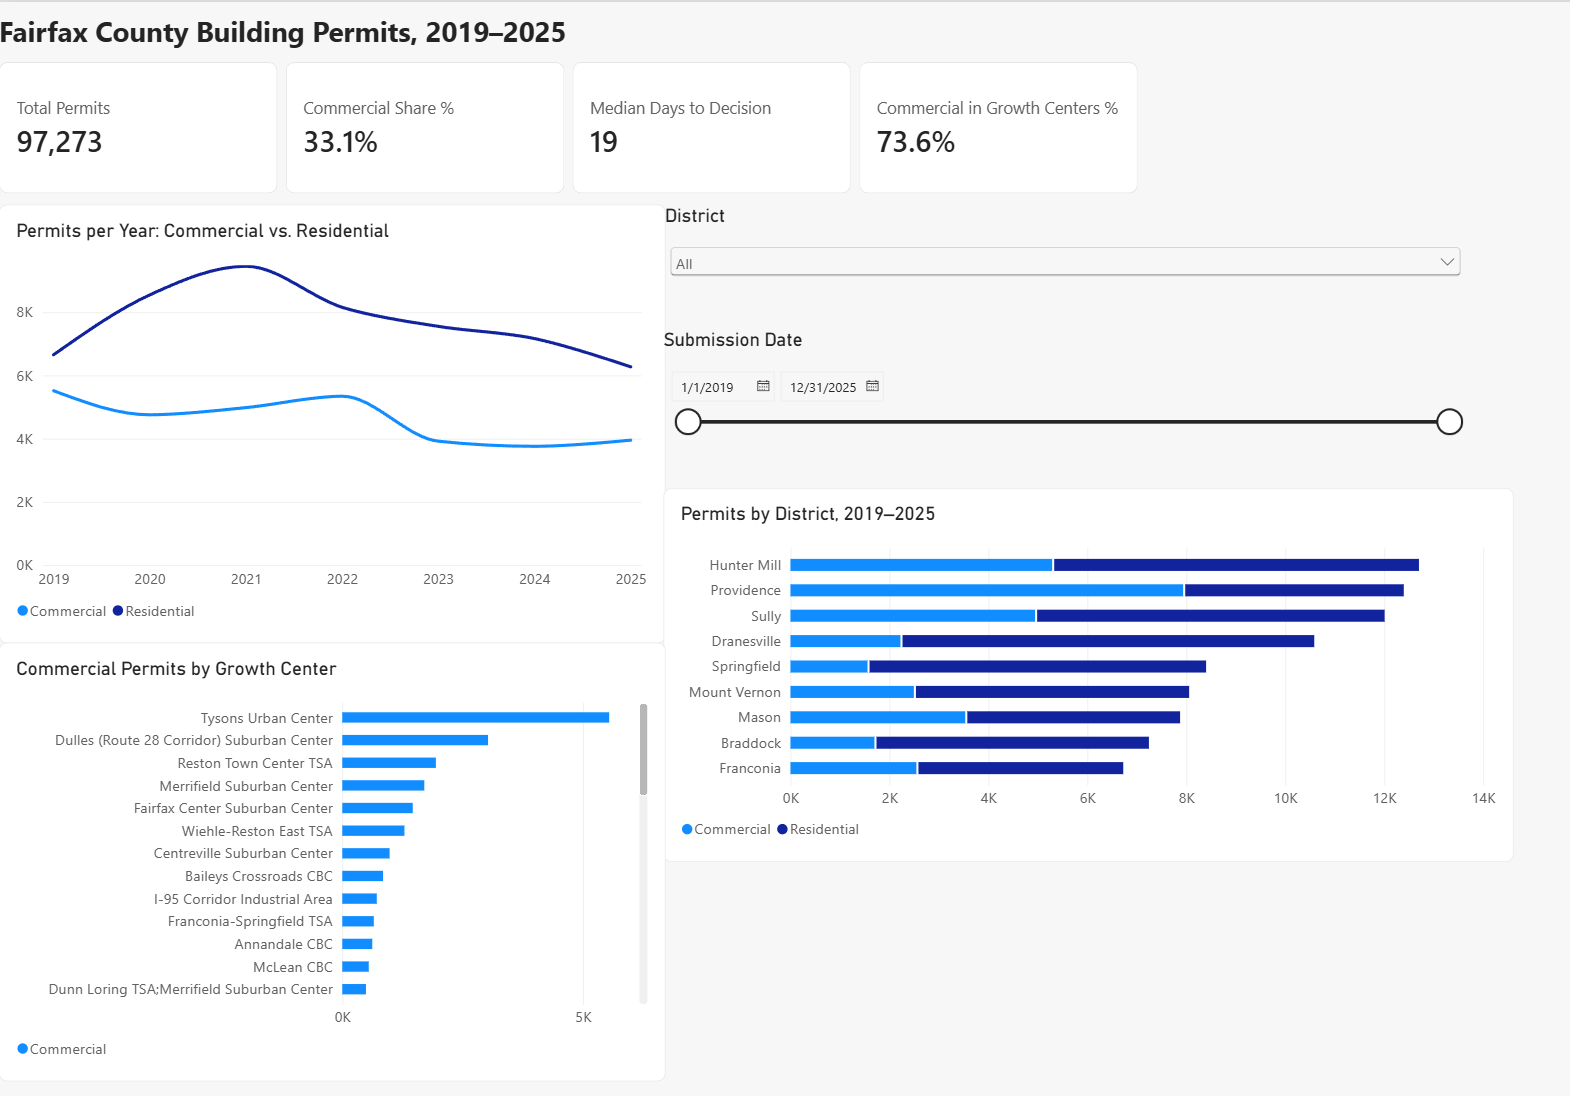

What the dashboard file says about the page in this screenshot:
{"tool":"powerbi","page":{"name":"Page 1","canvas":[1920,1080],"ordinal":0},"visuals":[{"type":"cardVisual","fields":{"Data":["permits.Total Permits","permits.Commercial Share %","permits.Median Days to Decision","permits.Commercial in Growth Centers %"]},"box":[0,58,1101.2,127.5],"z":0},{"type":"lineChart","title":"Permits per Year: Commercial vs. Residential","fields":{"Category":["permits.submitted_date.Variation.Date Hierarchy.Year"],"Series":["record_types.sector"],"Y":["permits.Total Permits"]},"box":[0,195.7,643.8,423.8],"z":1000},{"type":"barChart","title":"Permits by District, 2019–2025","fields":{"Category":["districts.district_name"],"Series":["record_types.sector"],"Y":["permits.Total Permits"]},"box":[642,469.6,821.2,361.2],"z":1001},{"type":"clusteredBarChart","title":"Commercial Permits by Growth Center","fields":{"Category":["growth_centers.growth_center_name"],"Series":["record_types.sector"],"Y":["permits.Total Permits"]},"box":[0,618.8,644,424],"z":1002},{"type":"slicer","title":"District","fields":{"Values":["districts.district_name"]},"box":[643.5,195.7,773.9,107.2],"z":1003},{"type":"slicer","title":"Submission Date","fields":{"Values":["permits.submitted_date"]},"box":[642,315.9,775.4,126.1],"z":1004},{"type":"textbox","box":[0,10,781.2,73.9],"z":1005}]}

Visuals, with their boxes on the page's 1920x1080 design canvas (x1, y1, x2, y2). These are canvas units, not pixel positions in the 1570x1096 screenshot, which may show the page scaled, cropped or inside an application window:
cardVisual - permits.Total Permits x permits.Commercial Share %: pyautogui.locateOnScreen(0, 58, 1101, 186)
"Permits per Year: Commercial vs. Residential" lineChart: pyautogui.locateOnScreen(0, 196, 644, 620)
"Permits by District, 2019–2025" barChart: pyautogui.locateOnScreen(642, 470, 1463, 831)
"Commercial Permits by Growth Center" clusteredBarChart: pyautogui.locateOnScreen(0, 619, 644, 1043)
"District" slicer: pyautogui.locateOnScreen(644, 196, 1417, 303)
"Submission Date" slicer: pyautogui.locateOnScreen(642, 316, 1417, 442)
textbox: pyautogui.locateOnScreen(0, 10, 781, 84)
